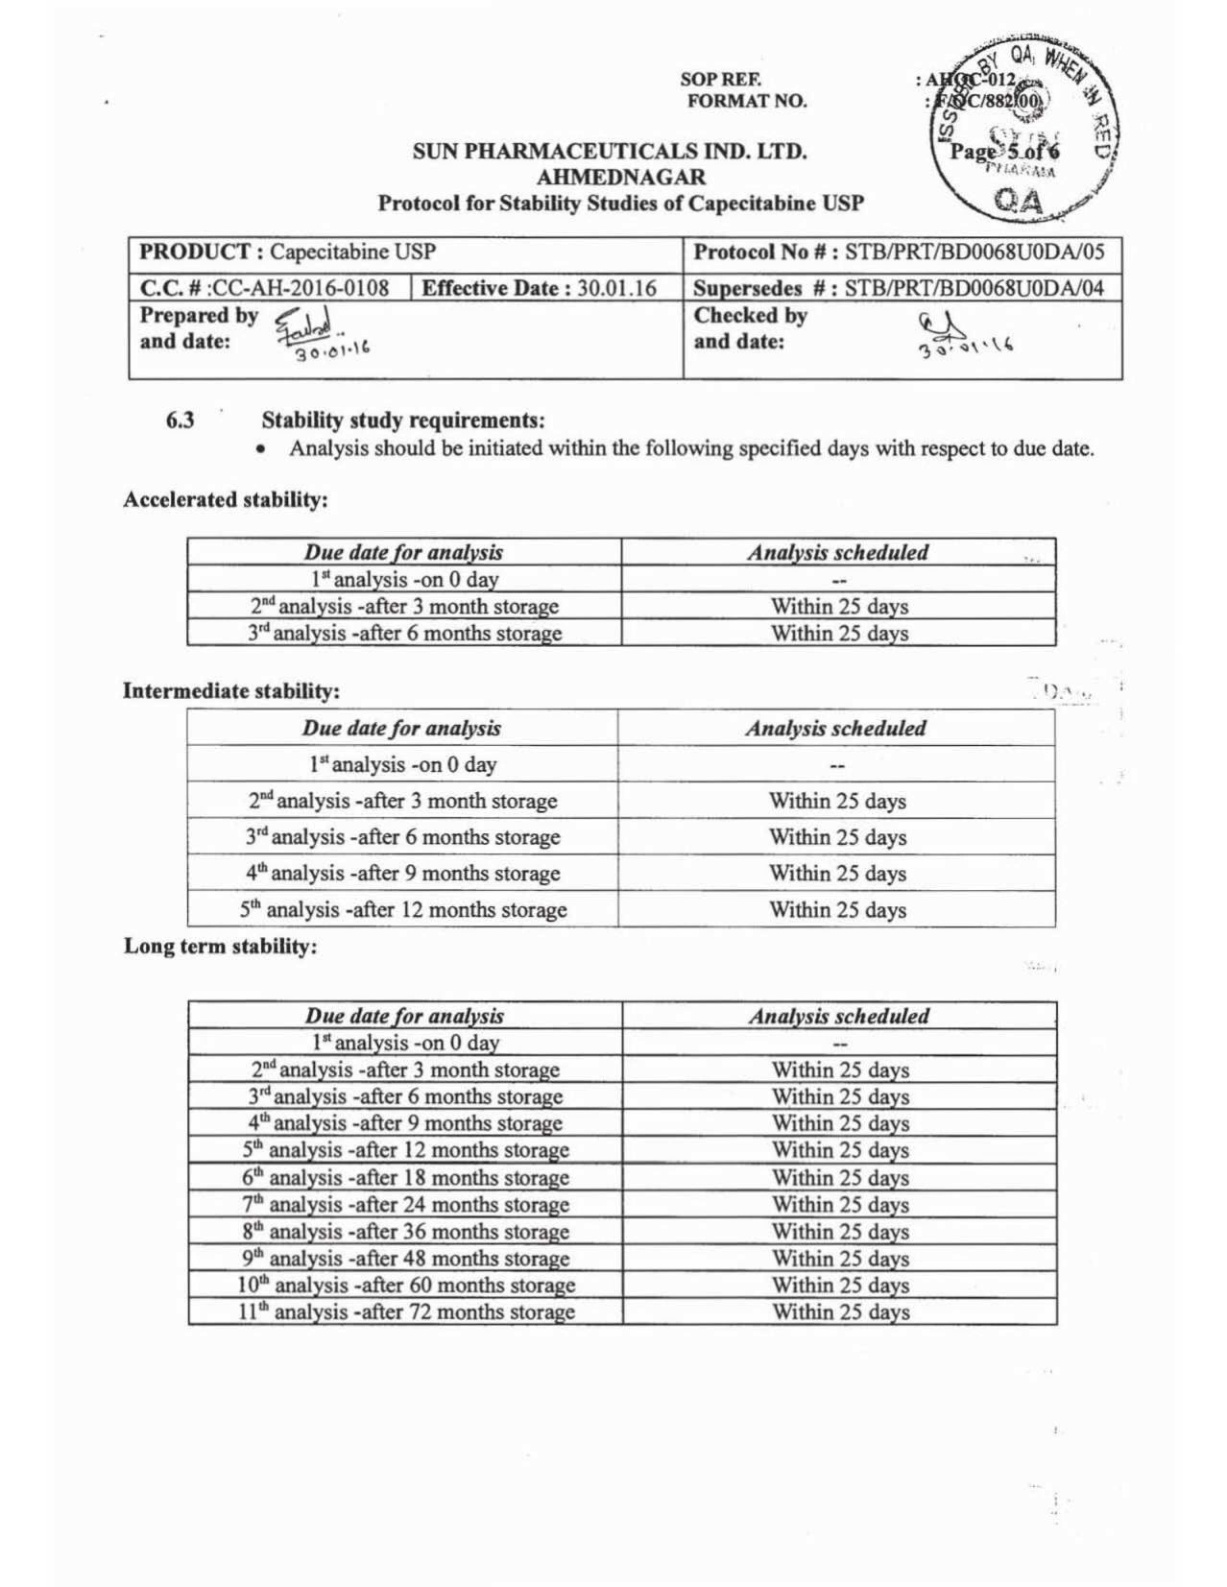full_lined: (187, 998, 1060, 1327), (185, 706, 1057, 927), (185, 535, 1058, 648)
merged_cells: (127, 234, 1124, 381)
